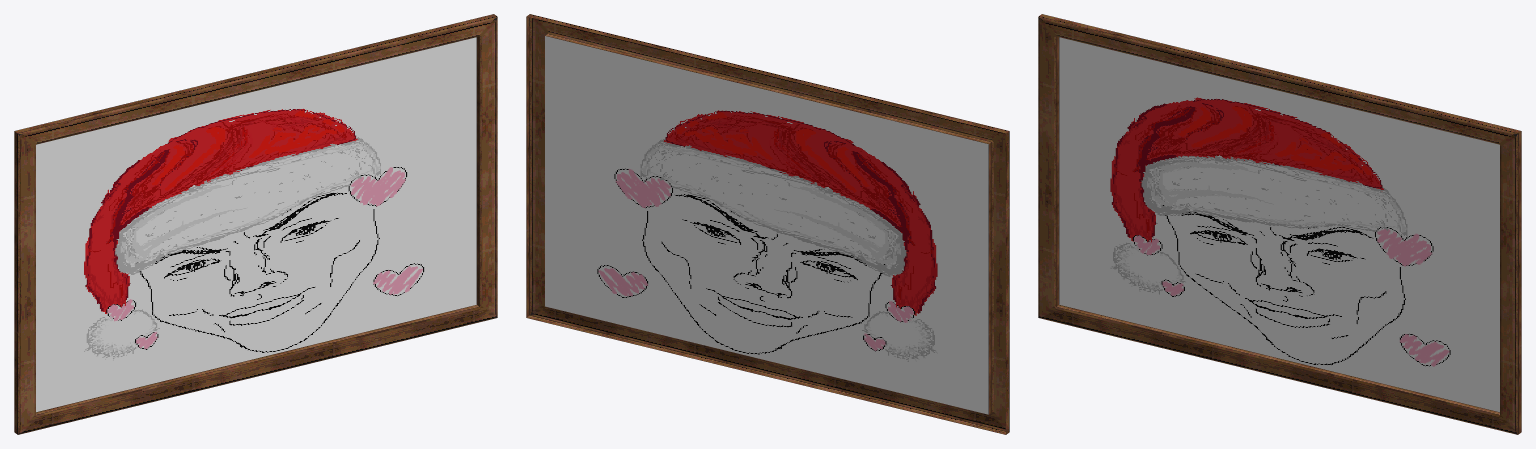
The model's file is painting.glb.
3 views of the same model, side by side, from view 1: azimuth 30°, elevation 25°; view 2: azimuth 150°, elevation 25°; view 3: azimuth 330°, elevation 25° (orthographic).
Parts seen in each view (by area): view 1: painting; view 2: painting; view 3: painting.
Part boxes in pixels (bbox=[...]): painting: bbox=[14, 14, 497, 434]; painting: bbox=[526, 14, 1009, 434]; painting: bbox=[1038, 14, 1521, 434].
Bounding box in the file's own units: 1 × 0.6 × 0.0149.
Materials: 2 (2 with a texture image).
